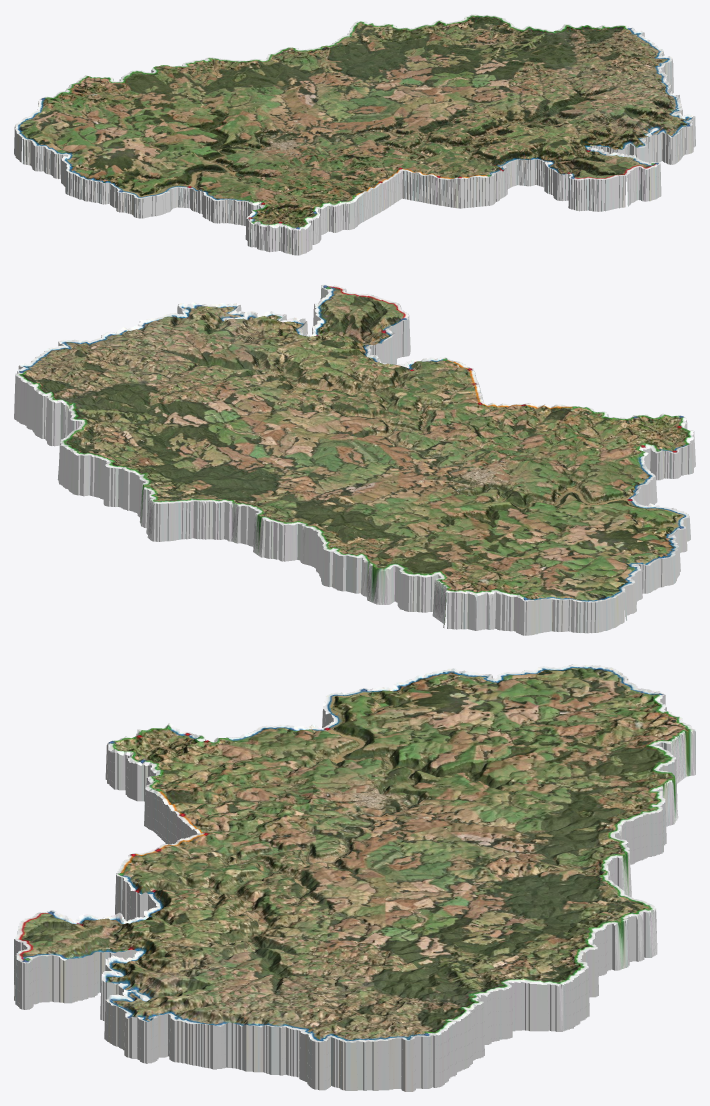
The picture shows the model from 3 angles, top to bottom: view 1: azimuth 30°, elevation 25°; view 2: azimuth 150°, elevation 25°; view 3: azimuth 270°, elevation 25°; orthographic projection. The views are drawn at different scales.
Bounding box in the file's own units: 1 × 0.0635 × 0.7342.
Materials: 1 (1 with a texture image).
